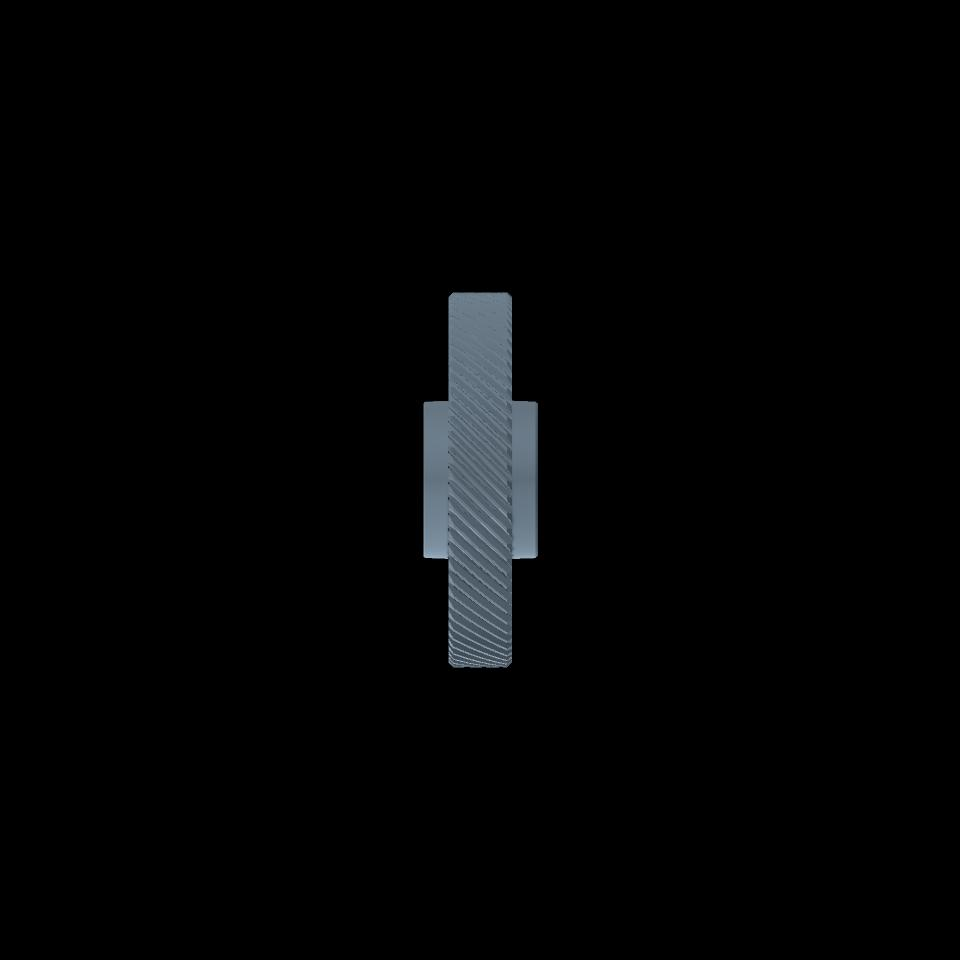Helical: (452, 292, 509, 667)
